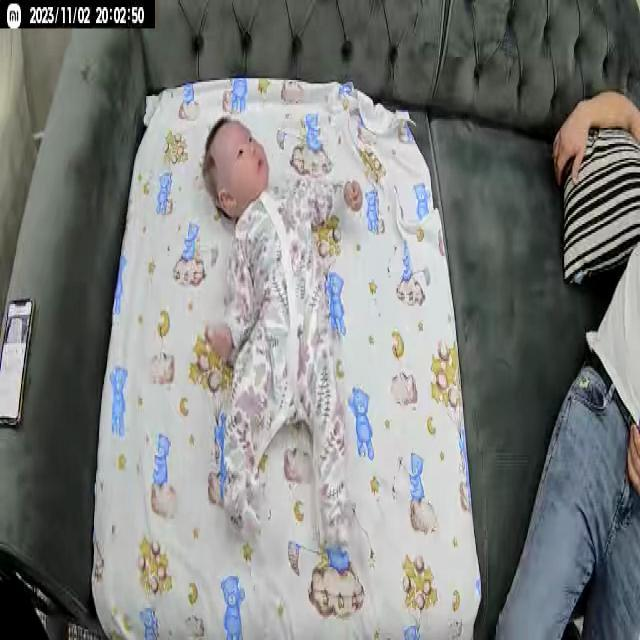baby: (200, 112, 370, 558)
